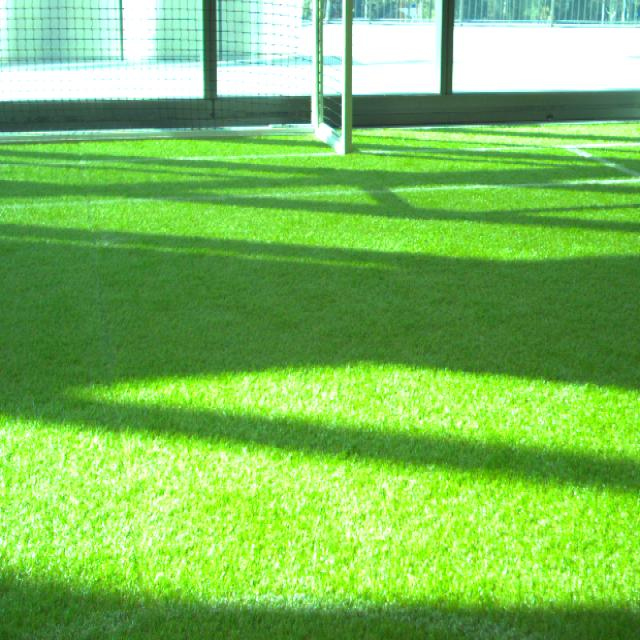goalpost: (339, 2, 353, 154)
